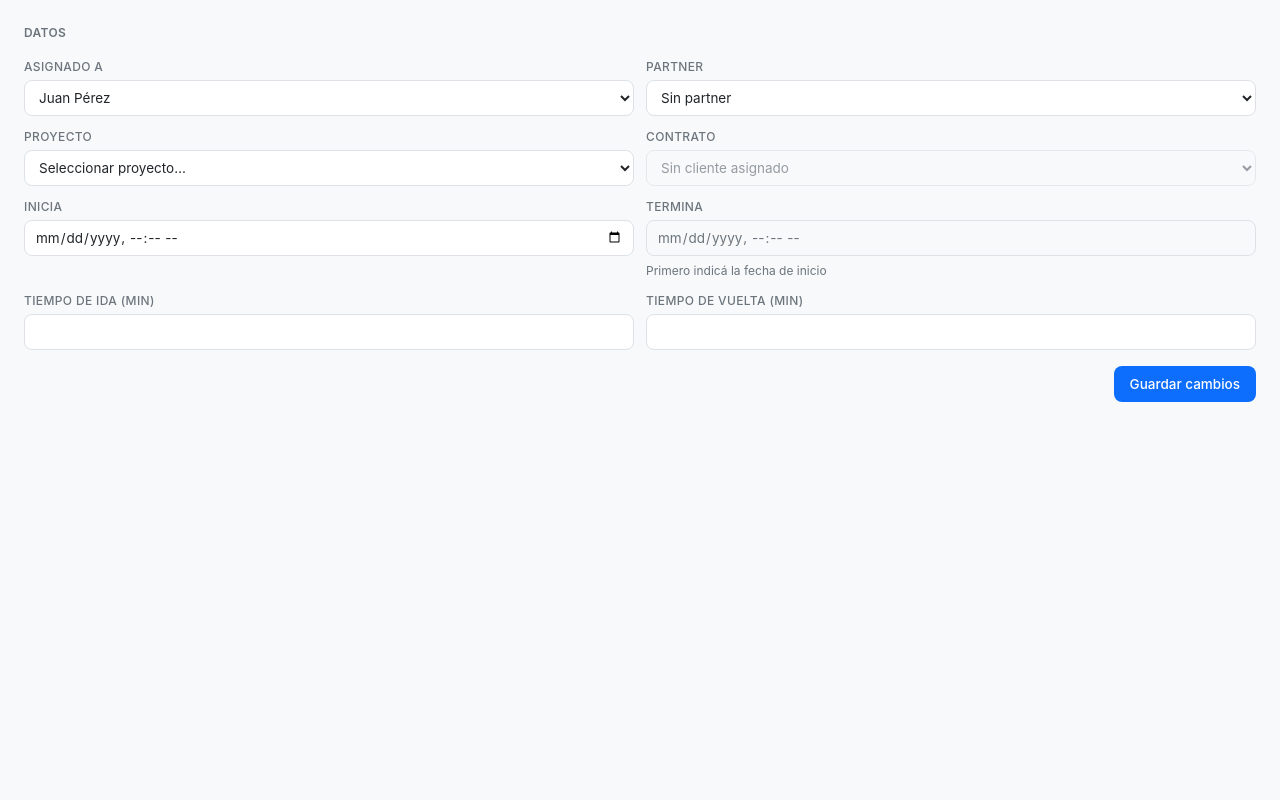
Test: DatosForm › #122 assignee sin cuadrilla IClass › flag ON + técnico SIN cuadrilla: abre modal y revierte el assignee al valor previo
// Elijo admin-2 (sin cuadrilla) → debe bloquear.
Select "Ana García" in the dropdown labelled "Asignado a" at x=329, y=98, box x1=24 y1=80 x2=634 y2=116
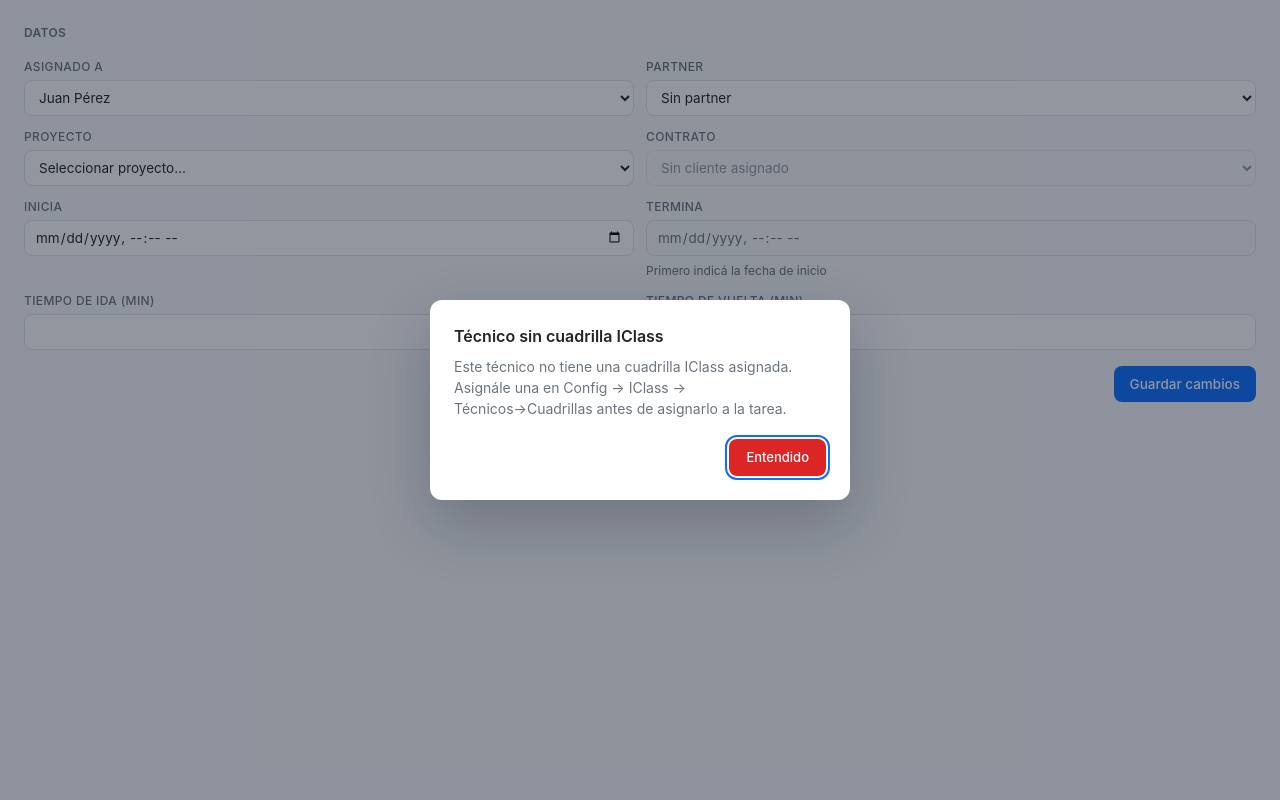
Now the text "no tiene una cuadrilla IClass" is shown, box x1=454 y1=358 x2=792 y2=417
